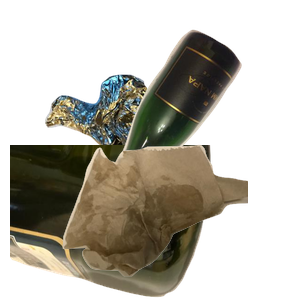glass: (87, 27, 300, 207)
metal: (42, 72, 239, 229)
plastic: (10, 145, 213, 300)
trash: (60, 142, 300, 300)
